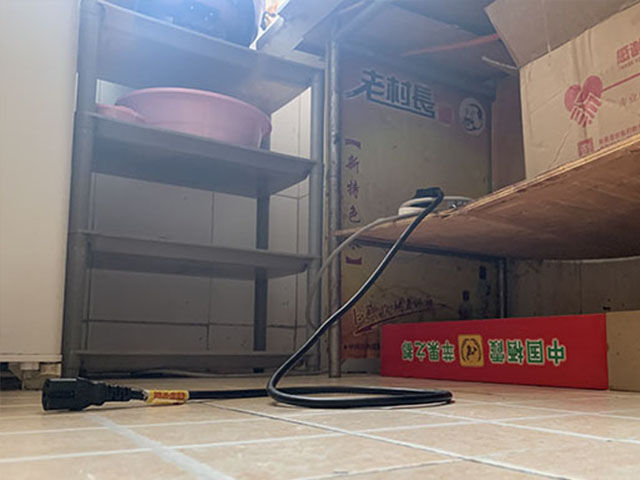wire: (42, 370, 460, 411)
